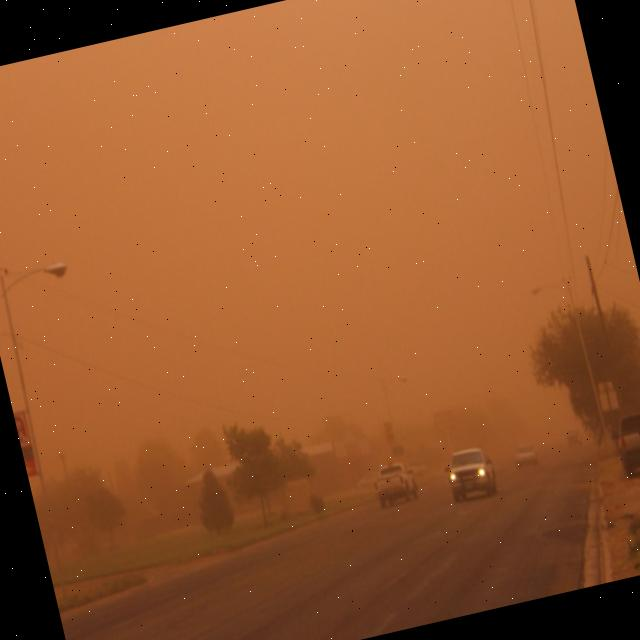car: (442, 443, 499, 503), (371, 459, 419, 509), (612, 407, 640, 479), (512, 444, 540, 471), (564, 428, 584, 448)
